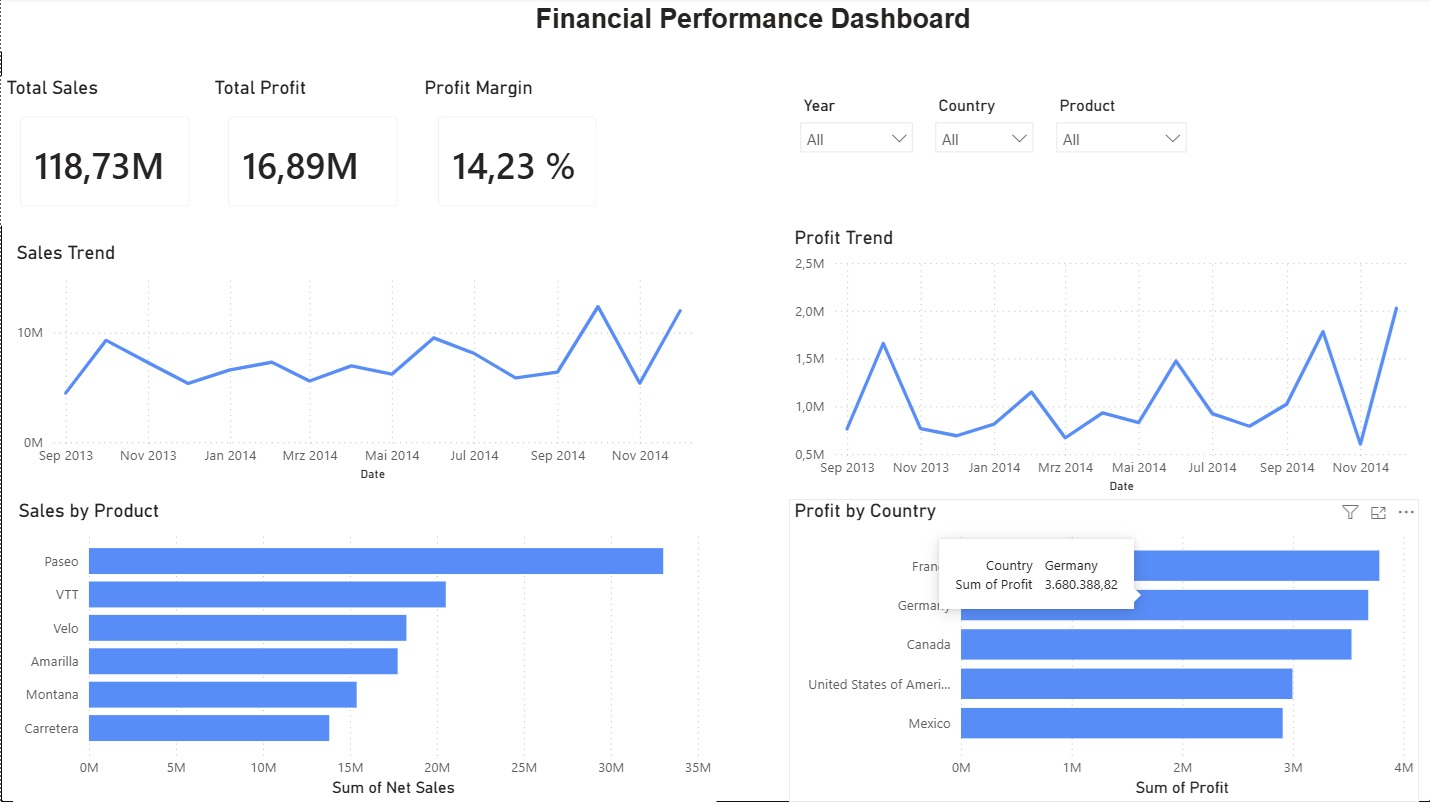

This screenshot's page, from the dashboard's own definition file:
{"tool":"powerbi","page":{"name":"Executive Overview","canvas":[1280,720],"ordinal":0},"visuals":[{"type":"cardVisual","title":"Total Sales","fields":{"Data":["Sum(financials.Net Sales)"]},"box":[0,70,186.6,134.5],"z":0},{"type":"cardVisual","title":"Total Profit","fields":{"Data":["Sum(financials.Profit)"]},"box":[186.6,70,186.6,134.5],"z":1000},{"type":"lineChart","title":"Sales Trend","fields":{"Category":["financials.Date"],"Y":["Sum(financials.Net Sales)"]},"box":[9.2,217.6,630.2,220.2],"z":2000},{"type":"lineChart","title":"Profit Trend","fields":{"Category":["financials.Date"],"Y":["Sum(financials.Profit)"]},"box":[705.3,204.5,575,244.3],"z":3000},{"type":"clusteredBarChart","title":"Sales by Product","fields":{"Y":["Sum(financials.Net Sales)"],"Category":["financials.Product"]},"box":[10.5,448.3,630.2,271.6],"z":4000},{"type":"clusteredBarChart","title":"Profit by Country","fields":{"Category":["financials.Country"],"Y":["Sum(financials.Profit)"]},"box":[705.4,448.3,564.3,271.6],"z":5000},{"type":"slicer","fields":{"Values":["financials.Year"]},"box":[705.4,83.1,121.3,69.9],"z":6000},{"type":"slicer","fields":{"Values":["financials.Country"]},"box":[826.7,83.1,108.1,79.1],"z":7000},{"type":"slicer","fields":{"Values":["financials.Product"]},"box":[934.8,83.1,137.1,76.5],"z":8000},{"type":"textbox","box":[0,0,1280.3,48],"z":9000},{"type":"cardVisual","title":"Profit Margin","fields":{"Data":["DateTable.Profit Margin"]},"box":[374.2,69.7,176.1,134.5],"z":10000}]}

Visuals, with their boxes in screenshot pixels (x1, y1, x2, y2), scaled from the page's 1280x720 canvas onto the 1430x802 screenshot:
"Total Sales" cardVisual: [0,78,208,228]
"Total Profit" cardVisual: [208,78,417,228]
"Sales Trend" lineChart: [10,242,714,488]
"Profit Trend" lineChart: [788,228,1429,500]
"Sales by Product" clusteredBarChart: [12,499,716,801]
"Profit by Country" clusteredBarChart: [788,499,1418,801]
slicer - financials.Year: [788,93,924,170]
slicer - financials.Country: [924,93,1044,181]
slicer - financials.Product: [1044,93,1198,178]
textbox: [0,0,1429,53]
"Profit Margin" cardVisual: [418,78,615,227]
